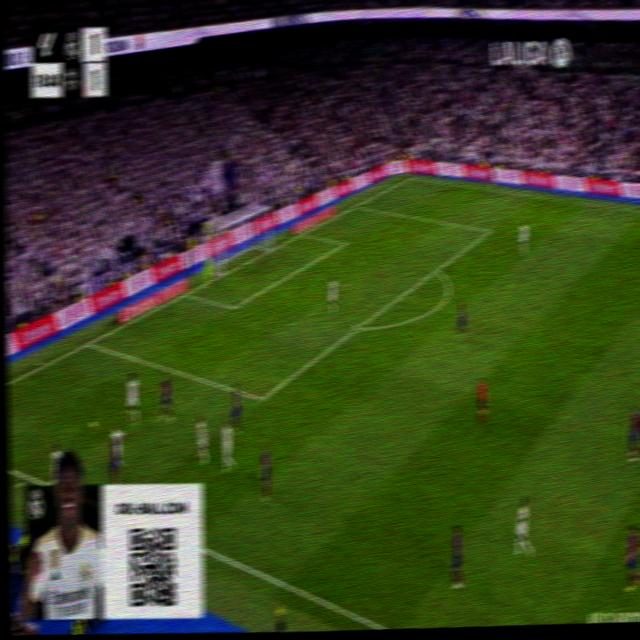bigarea_bottom_inner: (255, 387, 267, 409)
bigarea_top_inner: (485, 223, 493, 237)
bigarea_top_outter: (351, 197, 361, 210)
bottom_arc_area_intersection: (353, 316, 366, 335)
corner: (407, 170, 416, 180)
smallarea_bottom_inner: (228, 298, 239, 315)
smallarea_top_inner: (340, 237, 347, 248)
top_arc_area_intersection: (432, 261, 441, 275)
